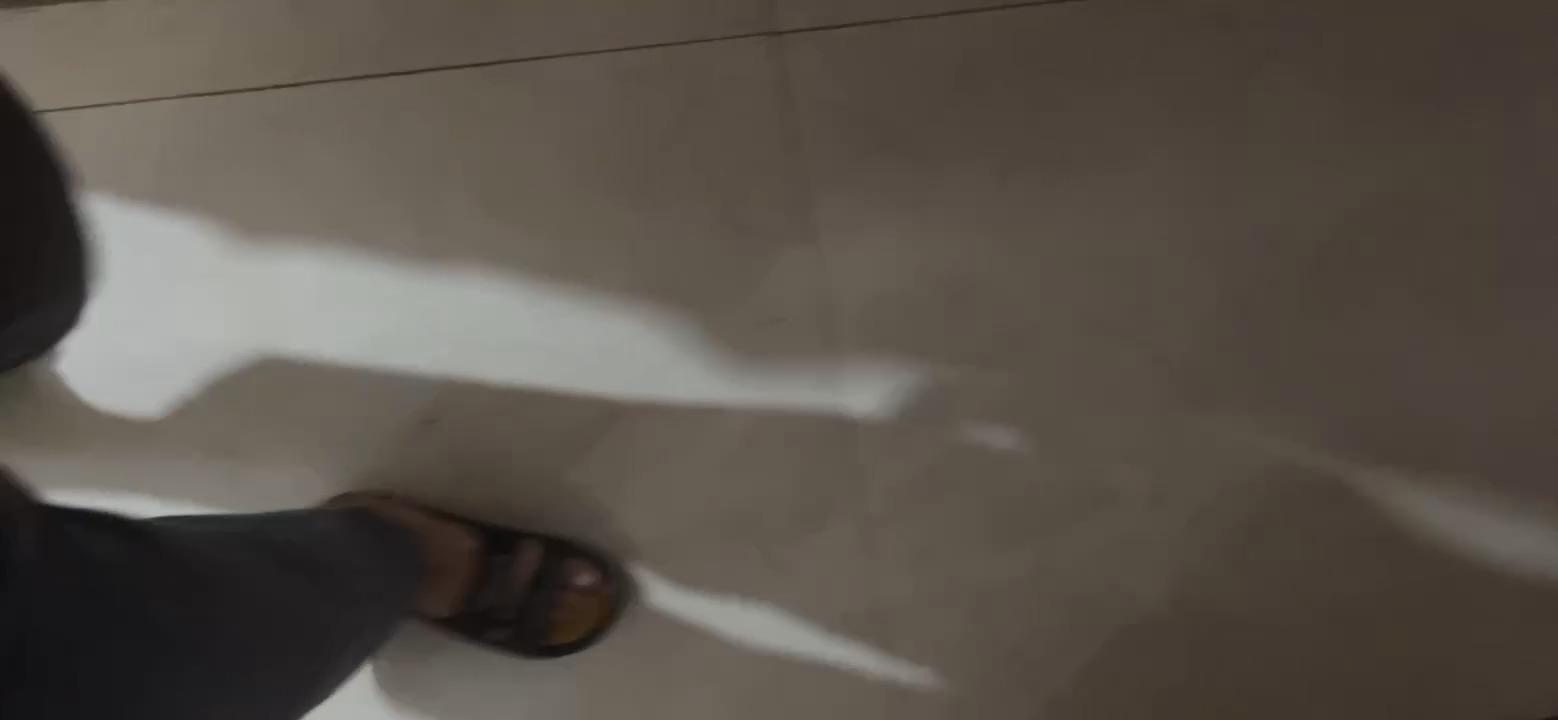no-boot: (333, 473, 603, 656)
